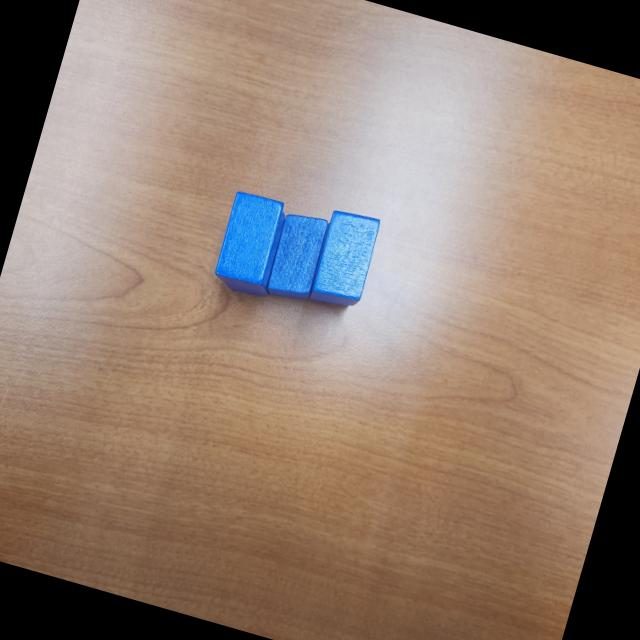blue: (306, 204, 385, 316), (210, 188, 286, 292), (262, 207, 334, 306), (223, 199, 292, 301)
